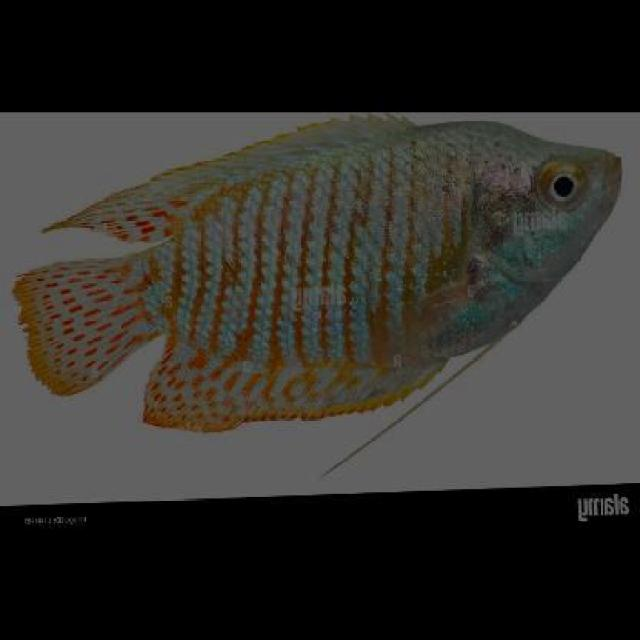Gourami: (19, 110, 622, 422)
